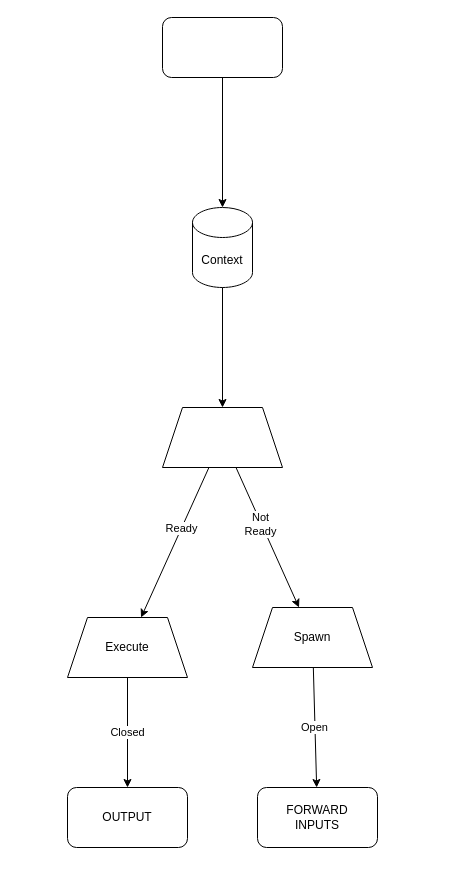
This 464x875 diagram has some shape labels left out. Here are the shapes that lost their labels. From the top down, the centre of each, then its label:
At pixel 222 47: "INPUT".
At pixel 222 437: "Assess".
